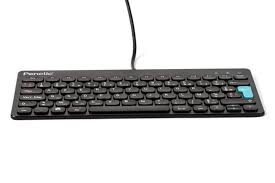keyboard: (18, 67, 271, 123)
